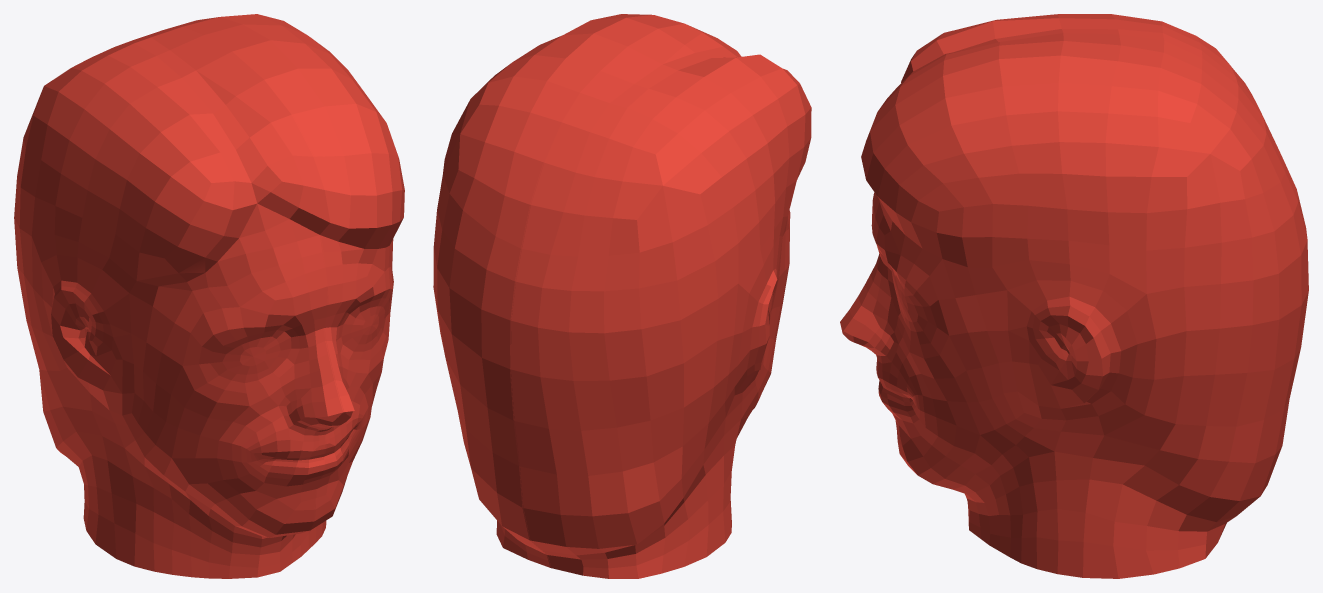
File: Head.fbx
The picture shows the model from 3 angles, left to right: view 1: azimuth 30°, elevation 25°; view 2: azimuth 150°, elevation 25°; view 3: azimuth 270°, elevation 25°; orthographic projection. The views are drawn at different scales.
Parts seen in each view (by area): view 1: Head_F, Head_L, Head_R; view 2: Head_F, Head_L, Head_R; view 3: Head_F, Head_L.
Boxes of the visible parts, left/top/right/bottom form: Head_F: left=14, top=14, right=404, bottom=578; Head_L: left=280, top=116, right=354, bottom=571; Head_R: left=257, top=115, right=344, bottom=577; Head_F: left=433, top=14, right=811, bottom=578; Head_L: left=481, top=163, right=550, bottom=567; Head_R: left=510, top=163, right=550, bottom=567; Head_F: left=840, top=14, right=1308, bottom=578; Head_L: left=840, top=62, right=1308, bottom=539.
Bounding box in the file's own units: 267 × 396 × 342.
